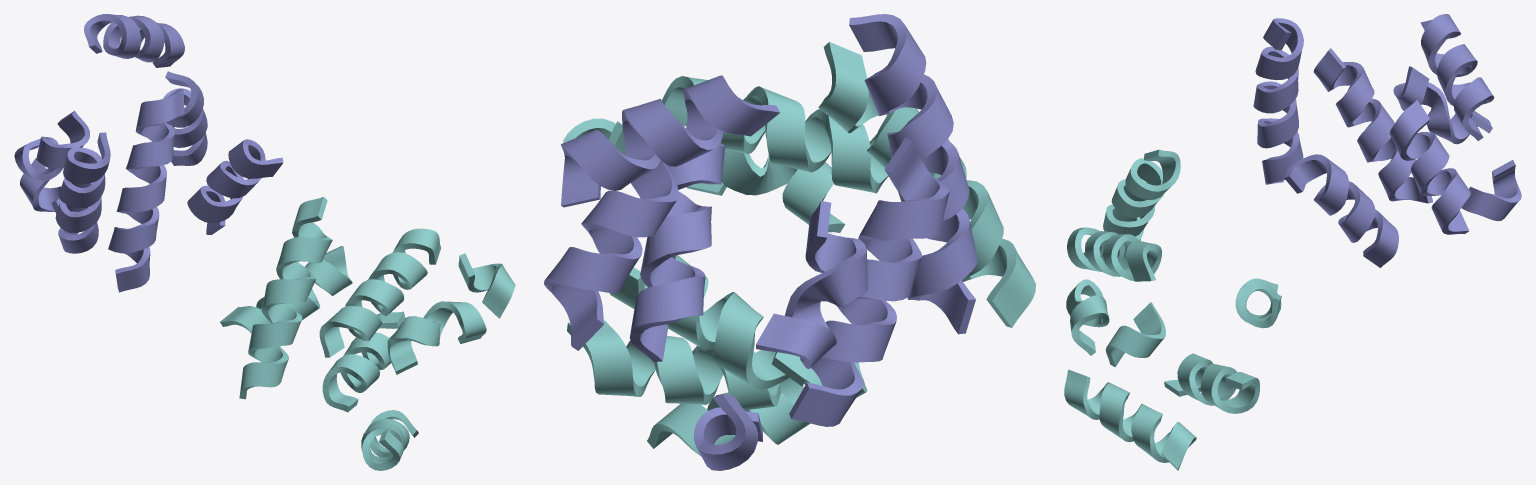
The model's file is 8H1B_helix.fbx.
3 renders of one model, left to right at view 1: azimuth 30°, elevation 25°; view 2: azimuth 150°, elevation 25°; view 3: azimuth 270°, elevation 25°, orthographic. The views are drawn at different scales.
Visible parts, largest first — view 1: 8H1B_folds_helix; view 2: 8H1B_folds_helix; view 3: 8H1B_folds_helix.
Boxes of the visible parts, x1=… form: 8H1B_folds_helix: x1=14, y1=14, x2=515, y2=470; 8H1B_folds_helix: x1=544, y1=14, x2=1035, y2=470; 8H1B_folds_helix: x1=1064, y1=14, x2=1521, y2=470.
Size of the model in its own units: 50.12 by 53.6 by 58.9.
